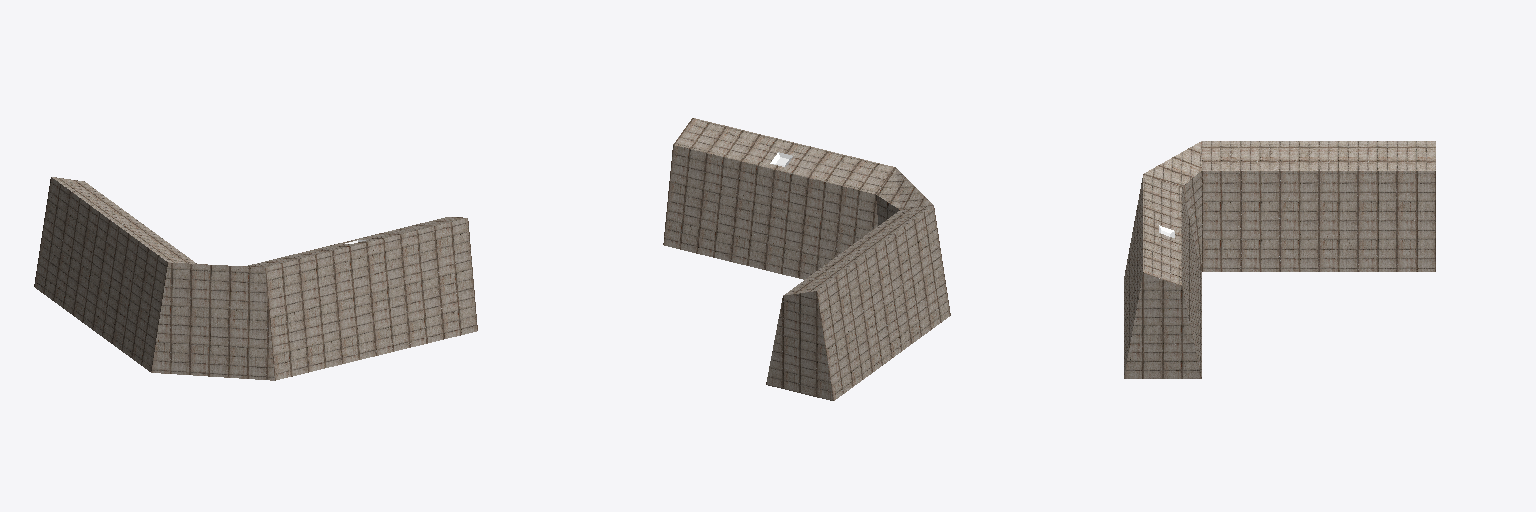
The picture shows the model from 3 angles: view 1: azimuth 30°, elevation 25°; view 2: azimuth 150°, elevation 25°; view 3: azimuth 270°, elevation 25°; orthographic projection.
Visible parts, largest first — view 1: TexturesCom_ConcreteFence0027_1_seamless_S; view 2: TexturesCom_ConcreteFence0027_1_seamless_S; view 3: TexturesCom_ConcreteFence0027_1_seamless_S.
Part boxes in pixels (left/top/right/bottom): TexturesCom_ConcreteFence0027_1_seamless_S: left=34, top=177, right=477, bottom=380; TexturesCom_ConcreteFence0027_1_seamless_S: left=663, top=118, right=950, bottom=400; TexturesCom_ConcreteFence0027_1_seamless_S: left=1124, top=141, right=1435, bottom=378.
Bounding box in the file's own units: 8.5 × 3 × 8.
2 materials, 1 textured.